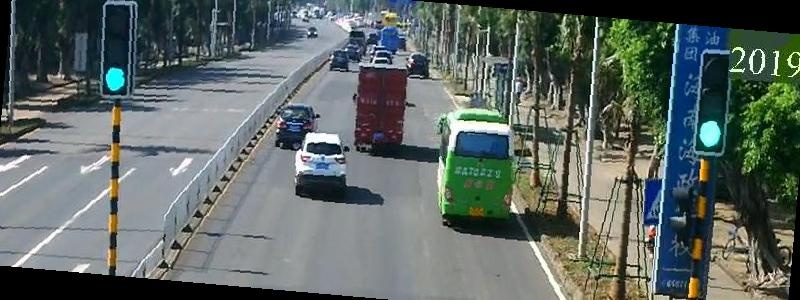green: (691, 114, 739, 162), (94, 60, 138, 100)
